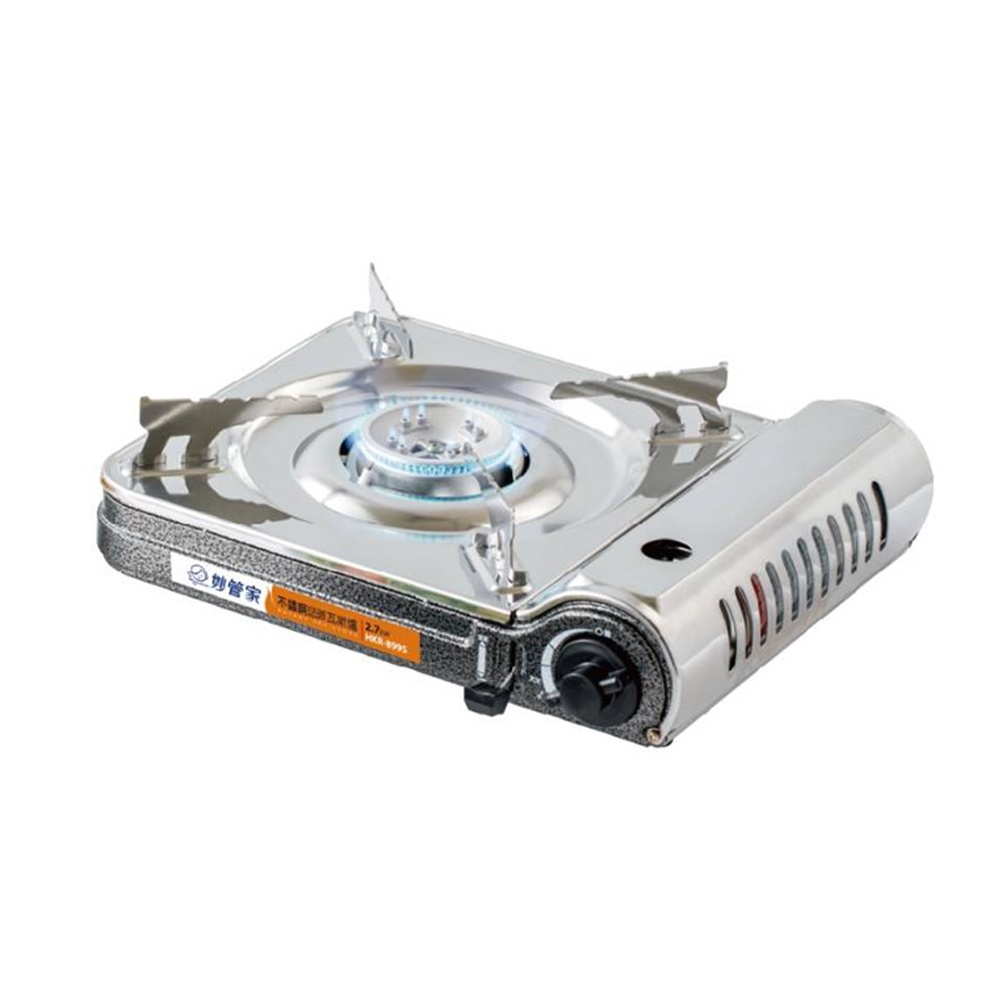gasoven: (96, 253, 942, 755)
